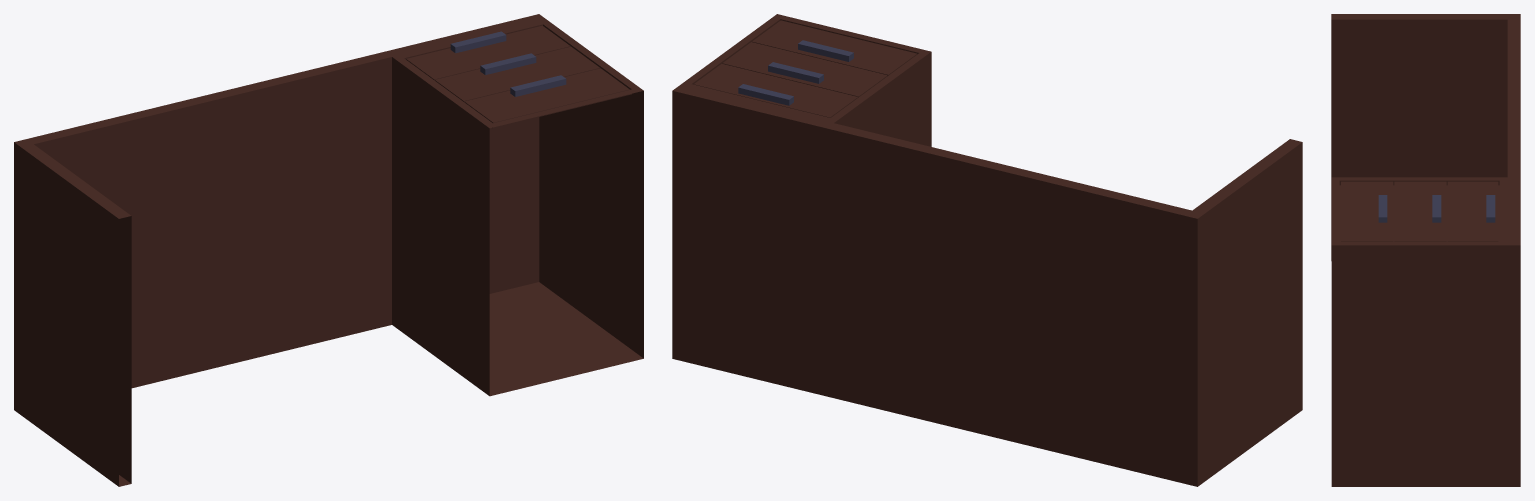
Rendered from Desk@item.obj.
3 views of the same model, side by side, from view 1: azimuth 30°, elevation 25°; view 2: azimuth 150°, elevation 25°; view 3: azimuth 270°, elevation 25° (orthographic). The views are drawn at different scales.
Parts seen in each view (by area): view 1: Desk.002; view 2: Desk.002; view 3: Desk.002.
Boxes of the visible parts, x1,y1,x2,y2 form: Desk.002: [14, 14, 643, 486]; Desk.002: [672, 14, 1302, 486]; Desk.002: [1331, 14, 1520, 486].
Size of the model in its own units: 1.25 by 0.6222 by 0.433.
Materials: 1 (1 with a texture image).
